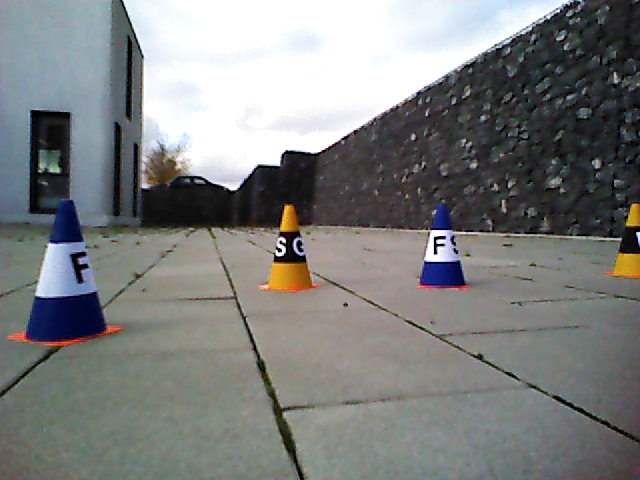bluecone: (26, 198, 107, 341), (419, 203, 466, 287)
yellowcone: (270, 202, 314, 289), (614, 204, 640, 273)
